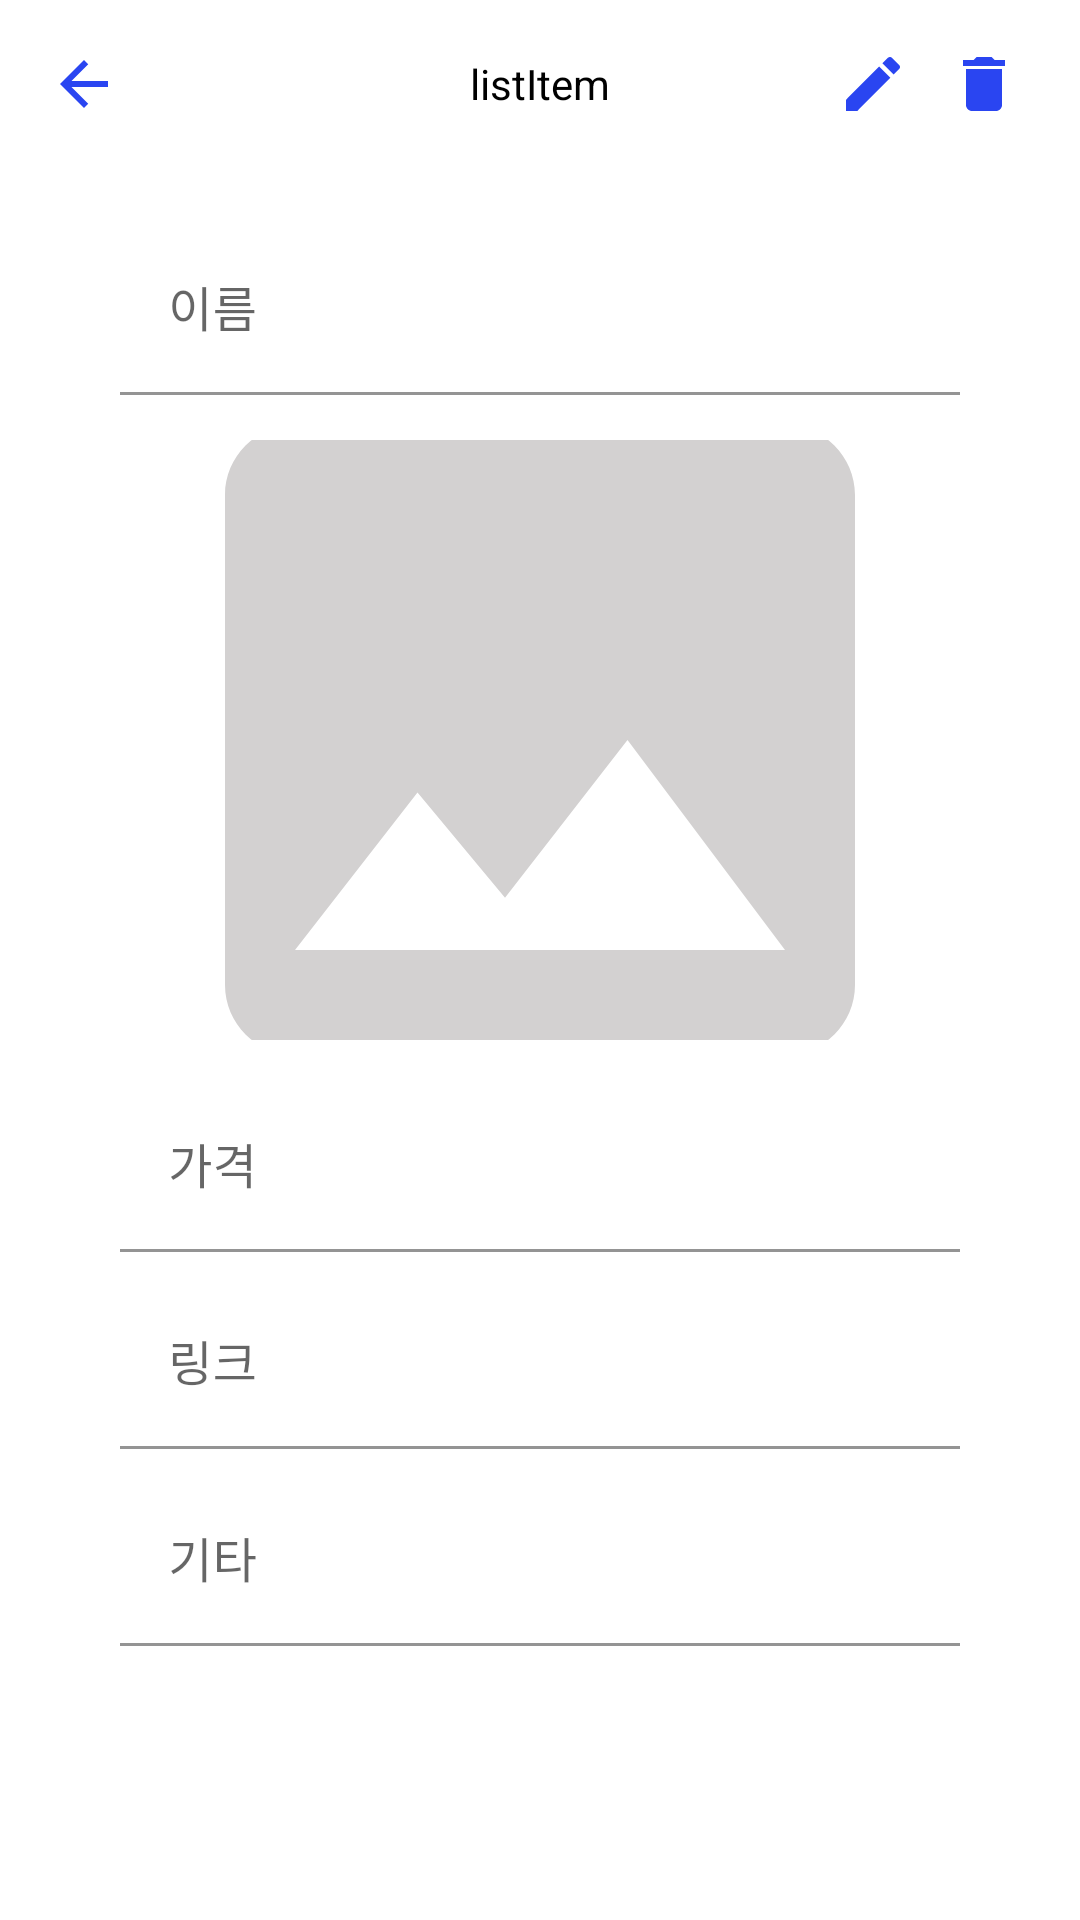

Screen size 1080×1920. Icon name, then its center in pixels as (x=x, y=y):
arrow back: (x=84, y=84)
delete: (x=984, y=84)
edit: (x=873, y=84)
